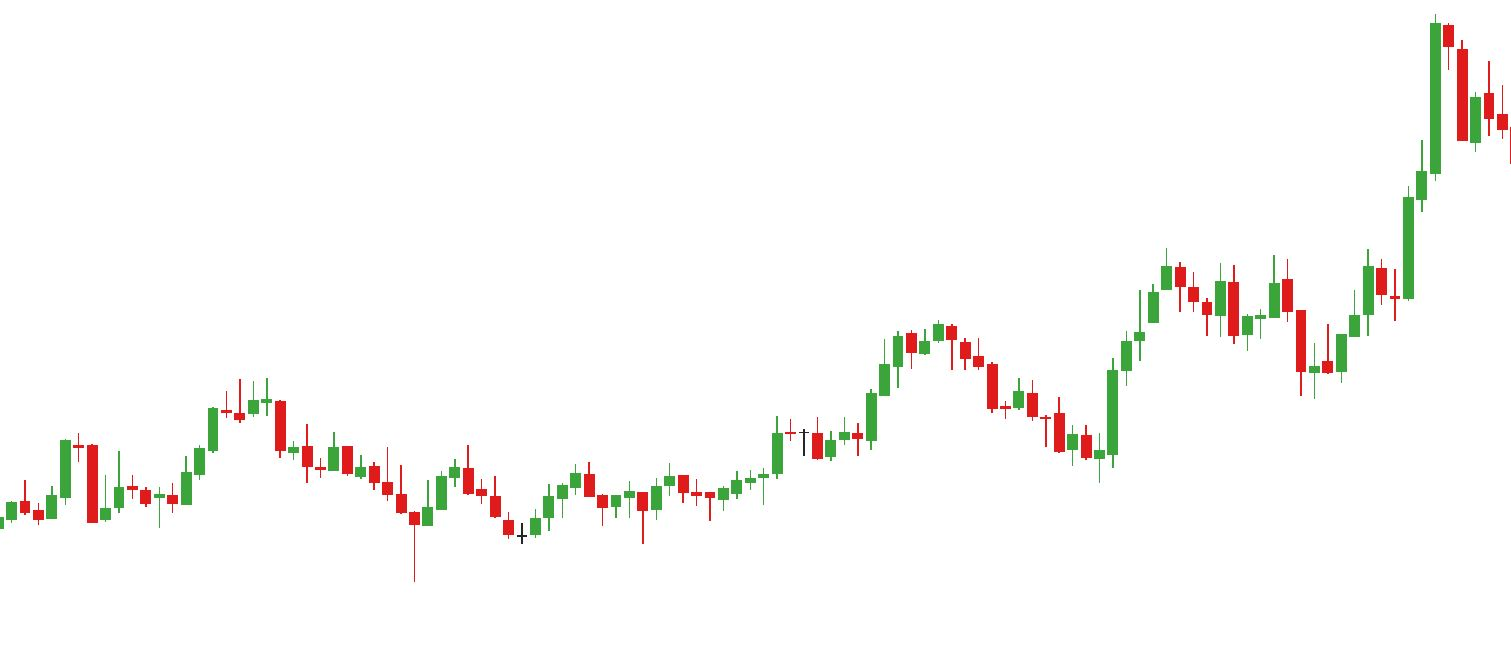buy: (1240, 307, 1347, 401)
